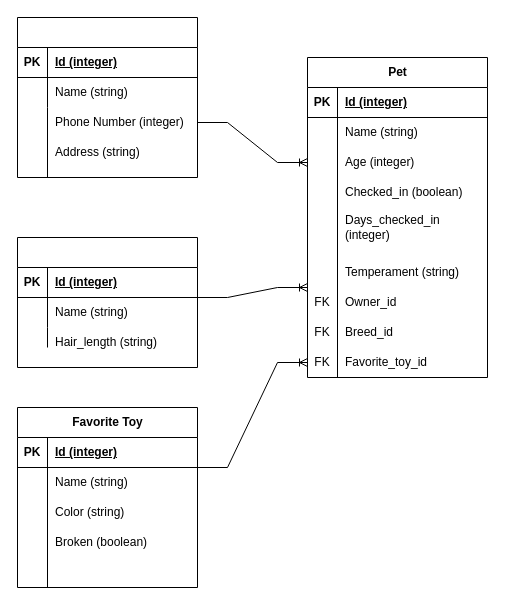
This 525x606 diagram has some shape labels left out. The shapes that lost their labels are listed below. From the top down, each one's box as (x1, y1, x2, y2) in pixels, then its label:
(16, 16, 198, 178): Owner
(16, 236, 198, 368): Breed
